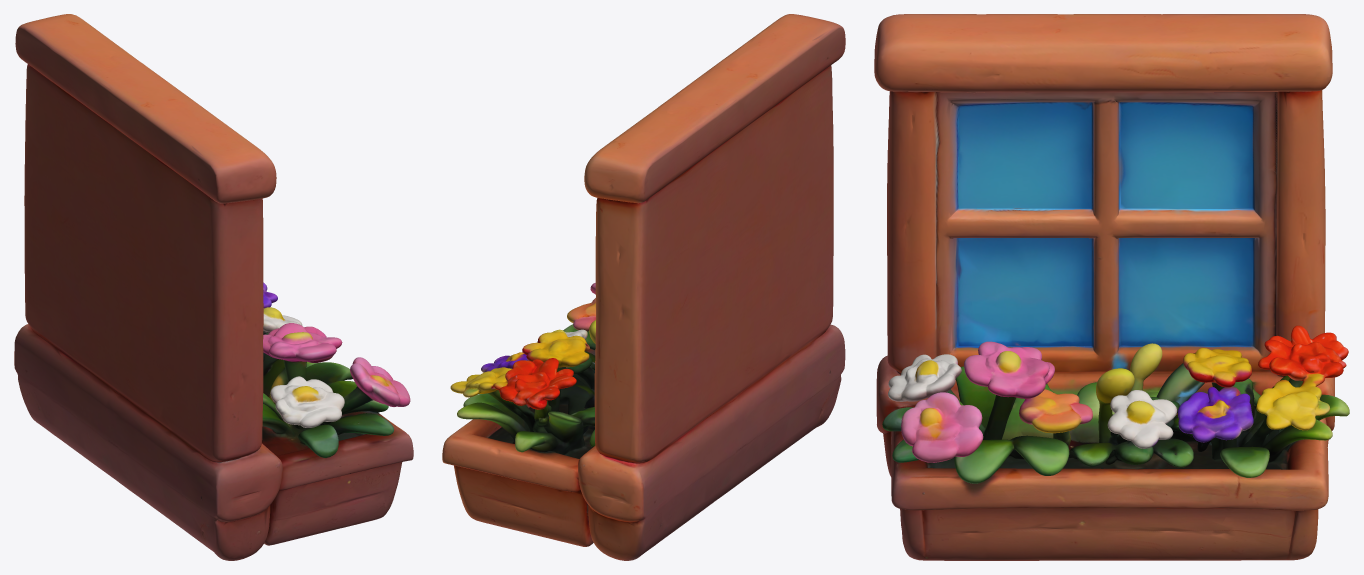
Rendered from prop-window-box.glb.
3 renders of one model, left to right at view 1: azimuth 30°, elevation 25°; view 2: azimuth 150°, elevation 25°; view 3: azimuth 270°, elevation 25°, orthographic. The views are drawn at different scales.
Parts seen in each view (by area): view 1: tripo_node_06552ac6-e237-43d2-a686-90927fb671b4; view 2: tripo_node_06552ac6-e237-43d2-a686-90927fb671b4; view 3: tripo_node_06552ac6-e237-43d2-a686-90927fb671b4.
Boxes of the visible parts, bbox=[...] form: tripo_node_06552ac6-e237-43d2-a686-90927fb671b4: bbox=[14, 14, 413, 560]; tripo_node_06552ac6-e237-43d2-a686-90927fb671b4: bbox=[442, 14, 845, 560]; tripo_node_06552ac6-e237-43d2-a686-90927fb671b4: bbox=[874, 14, 1349, 560].
Size of the model in its own units: 0.3351 by 0.6 by 0.5719.
1 material, 1 textured.
